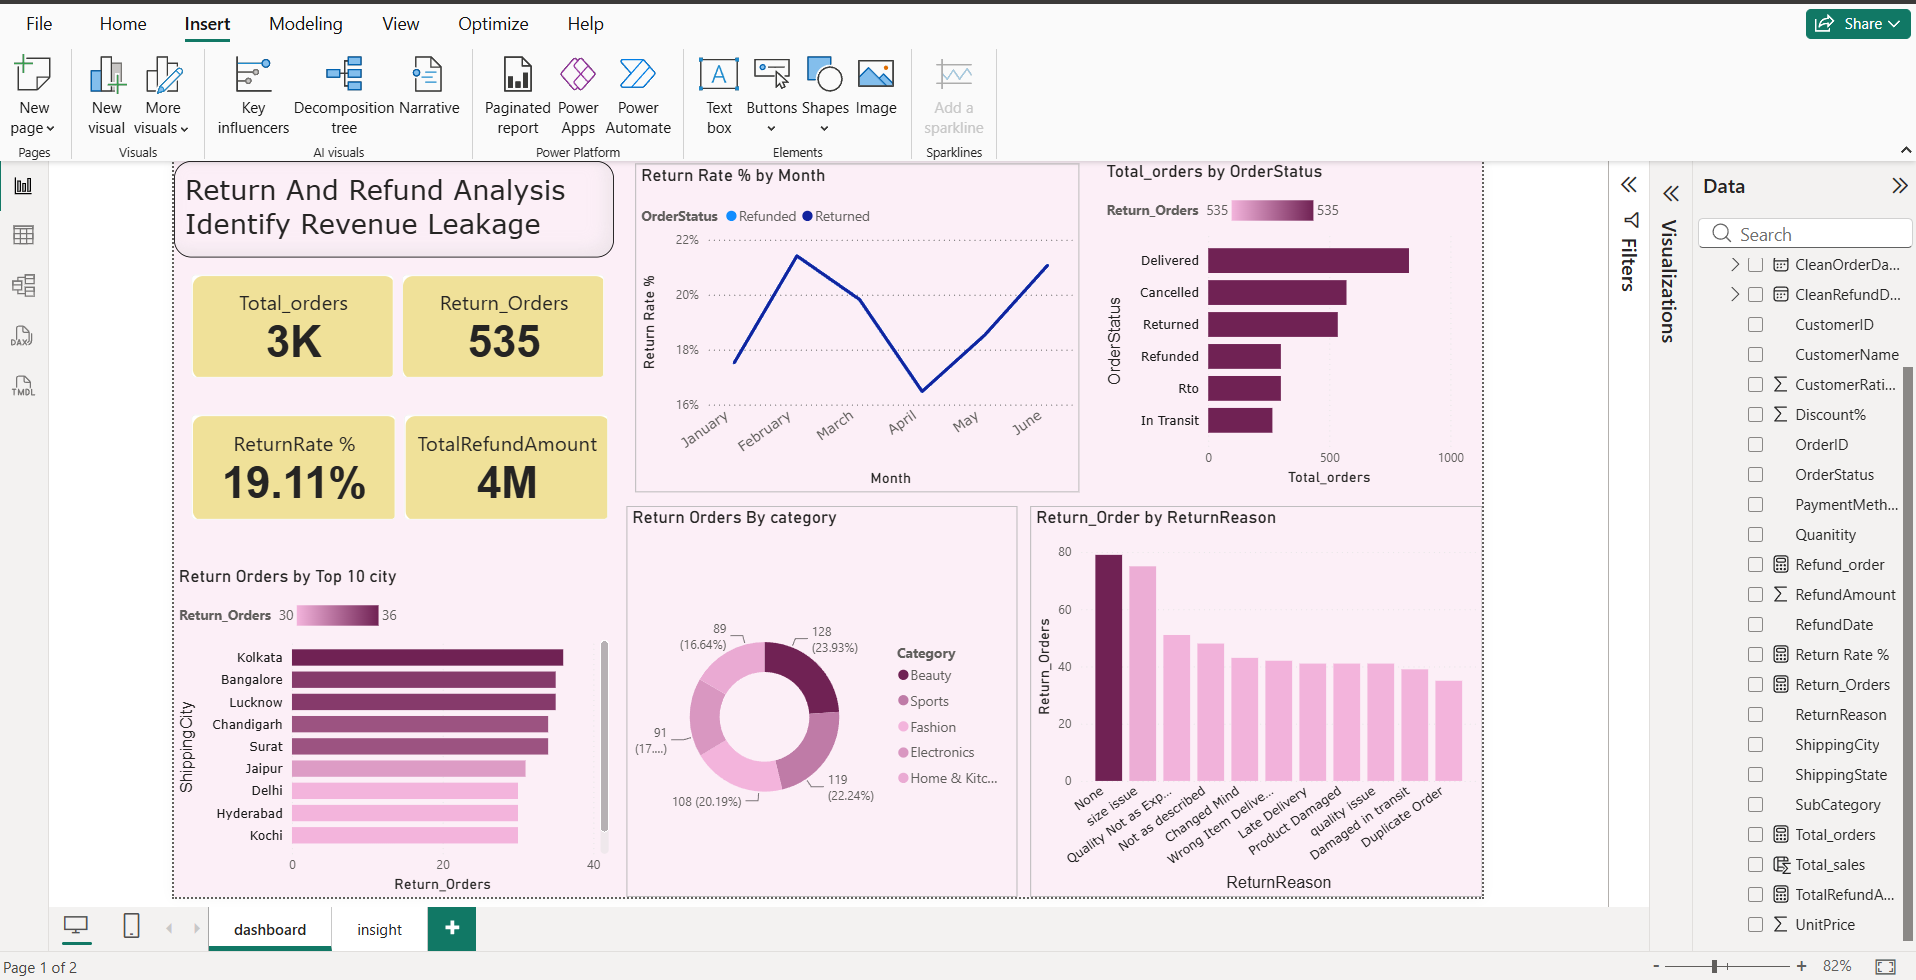

The page's visual inventory and layout, read from the dashboard file:
{"tool":"powerbi","page":{"name":"Page 1","canvas":[1280,720],"ordinal":0},"visuals":[{"type":"donutChart","title":"Return Orders By category","fields":{"Category":["ecommerce_returns_raw.Category"],"Y":["ecommerce_returns_raw.Return_Orders"]},"box":[414.5,337.5,376.6,382.7],"z":0},{"type":"lineChart","title":"Return and refund bby month","fields":{"Series":["ecommerce_returns_raw.OrderStatus"],"Category":["ecommerce_returns_raw.CleanOrderDate.Variation.Date Hierarchy.Month"],"Y":["CountNonNull(ecommerce_returns_raw.OrderStatus)"]},"box":[414.5,0,865.8,299.6],"z":1000},{"type":"clusteredBarChart","title":"Return Orders by Top 10 city ","fields":{"Category":["ecommerce_returns_raw.ShippingCity"],"Y":["ecommerce_returns_raw.Return_count"]},"box":[0,263.5,403.4,456.9],"z":2000},{"type":"lineClusteredColumnComboChart","title":"Return_Order by ReturnReason","fields":{"Category":["ecommerce_returns_raw.ReturnReason"],"Y":["ecommerce_returns_raw.Return_count"]},"box":[813.2,337.5,467.1,382.7],"z":3000},{"type":"textbox","box":[0,0,403.4,94.7],"z":4000},{"type":"cardVisual","fields":{"Data":["ecommerce_returns_raw.TotalRefundAmount","ecommerce_returns_raw.Return_Orders"]},"box":[12.2,94.2,402.3,138.2],"z":5000}]}

Visuals, with their boxes on the page's 1280x720 design canvas (x1, y1, x2, y2). These are canvas units, not pixel positions in the 1916x980 screenshot, which may show the page scaled, cropped or inside an application window:
"Return Orders By category" donutChart: 414:338:791:720
"Return and refund bby month" lineChart: 414:0:1280:300
"Return Orders by Top 10 city " clusteredBarChart: 0:264:403:720
"Return_Order by ReturnReason" lineClusteredColumnComboChart: 813:338:1280:720
textbox: 0:0:403:95
cardVisual - ecommerce_returns_raw.TotalRefundAmount x ecommerce_returns_raw.Return_Orders: 12:94:414:232
